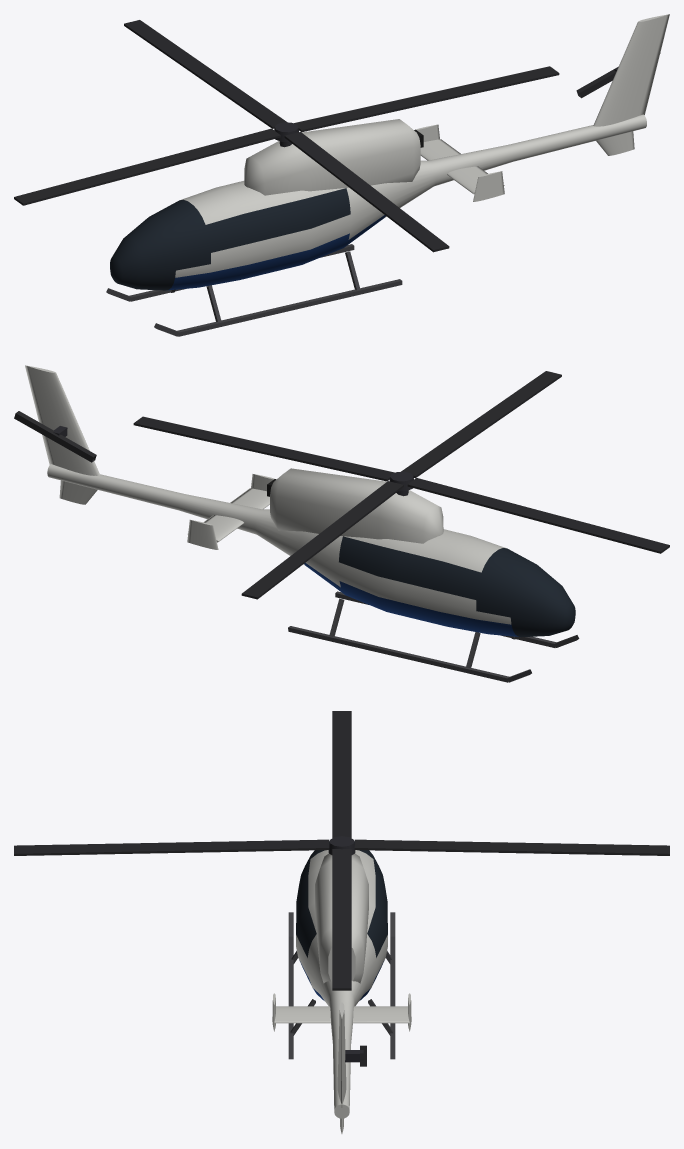
3 renders of one model, top to bottom at view 1: azimuth 30°, elevation 25°; view 2: azimuth 150°, elevation 25°; view 3: azimuth 270°, elevation 25°, orthographic. The views are drawn at different scales.
Visible parts, largest first — view 1: b407; view 2: b407; view 3: b407.
Part boxes in pixels (x1=…): b407: x1=14, y1=14, x2=669, y2=336; b407: x1=14, y1=365, x2=669, y2=682; b407: x1=14, y1=711, x2=669, y2=1133.
Size of the model in its own units: 12.97 by 3.44 by 10.67.
